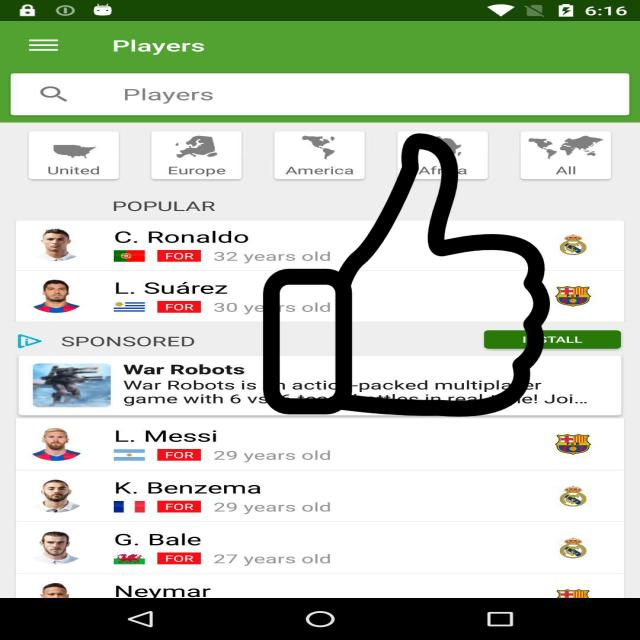privacy zuckering: (259, 133, 554, 417)
